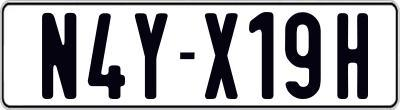1: (246, 12, 273, 100)
4: (86, 11, 127, 99)
9: (282, 11, 318, 102)
H: (334, 13, 370, 102)
N: (41, 13, 75, 99)
X: (203, 12, 241, 102)
Y: (135, 11, 170, 99)
